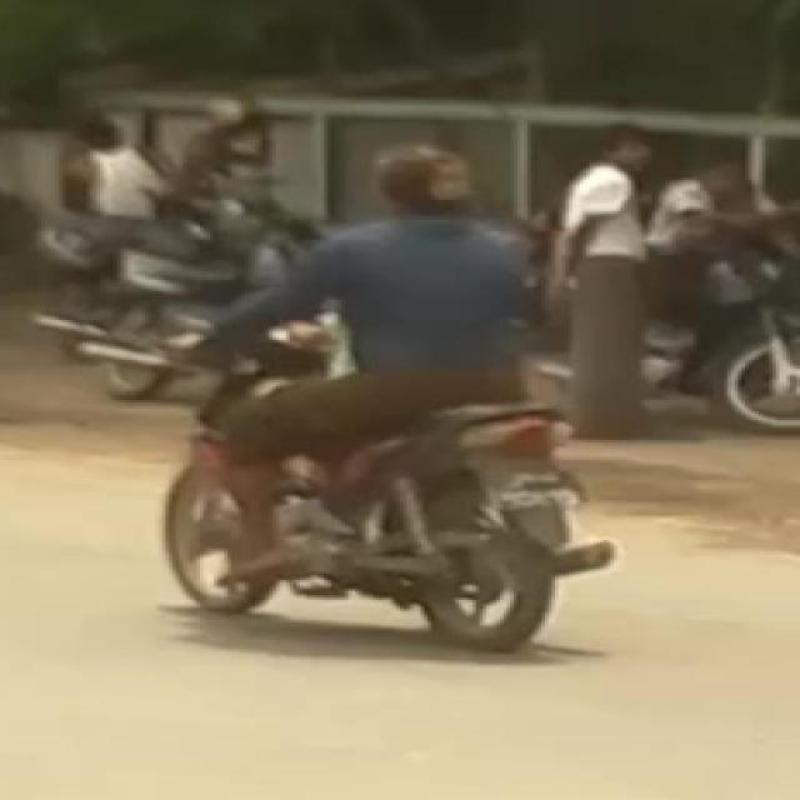nohelmet: (347, 140, 543, 231)
